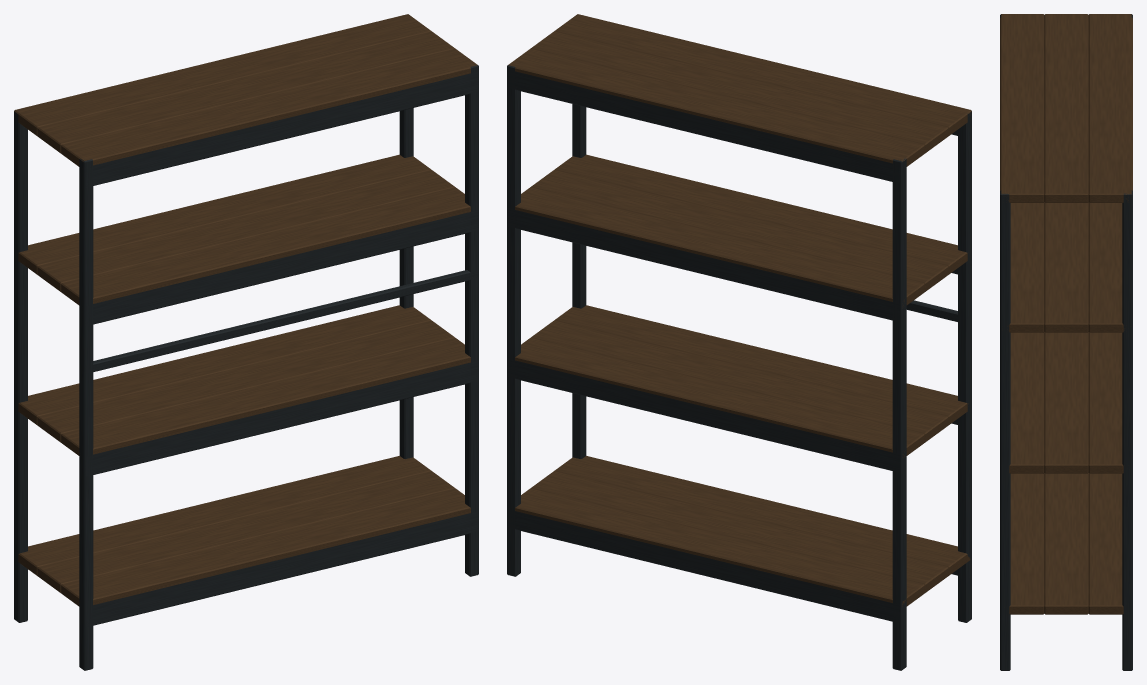
File: level_castle_retail_shelf.glb
3 views of the same model, side by side, from view 1: azimuth 30°, elevation 25°; view 2: azimuth 150°, elevation 25°; view 3: azimuth 270°, elevation 25° (orthographic). The views are drawn at different scales.
Parts seen in each view (by area): view 1: Oak shelf plank.009, Oak shelf plank, Oak shelf plank.006, Oak shelf plank.003, Oak shelf plank.010, Oak shelf plank.011, Oak shelf plank.004, Oak shelf plank.001, Oak shelf plank.007, Oak shelf plank.002, Oak shelf plank.008, Oak shelf plank.005 (+9 smaller); view 2: Oak shelf plank.011, Oak shelf plank.002, Oak shelf plank.005, Oak shelf plank.008, Oak shelf plank.010, Oak shelf plank.009, Oak shelf plank.004, Oak shelf plank.001, Oak shelf plank.007, Oak shelf plank, Oak shelf plank.003, Oak shelf plank.006 (+8 smaller); view 3: Oak shelf plank.010, Oak shelf plank.011, Oak shelf plank.009, Oak shelf plank.001, Oak shelf plank.004, Oak shelf plank.007, Iron upright.002, Iron upright.003, Oak shelf plank.003, Oak shelf plank.005, Oak shelf plank, Oak shelf plank.002 (+2 smaller).
Boxes of the visible parts, box(x1,y1,x2,y2) form: Oak shelf plank.009: box(61, 48, 477, 166); Oak shelf plank: box(61, 488, 470, 606); Oak shelf plank.006: box(61, 187, 470, 305); Oak shelf plank.003: box(61, 337, 470, 455); Oak shelf plank.010: box(37, 31, 454, 153); Oak shelf plank.011: box(14, 14, 431, 136); Oak shelf plank.004: box(37, 320, 454, 442); Oak shelf plank.001: box(37, 471, 454, 592); Oak shelf plank.007: box(37, 170, 454, 291); Oak shelf plank.002: box(18, 456, 431, 575); Oak shelf plank.008: box(14, 154, 431, 274); Oak shelf plank.005: box(18, 305, 431, 425); Oak shelf plank.011: box(508, 48, 924, 166); Oak shelf plank.002: box(515, 488, 924, 606); Oak shelf plank.005: box(515, 337, 924, 457); Oak shelf plank.008: box(515, 187, 924, 308); Oak shelf plank.010: box(531, 31, 948, 153); Oak shelf plank.009: box(554, 14, 971, 136); Oak shelf plank.004: box(531, 320, 948, 442); Oak shelf plank.001: box(531, 471, 948, 592); Oak shelf plank.007: box(531, 170, 948, 291); Oak shelf plank: box(554, 456, 970, 575); Oak shelf plank.003: box(554, 305, 968, 425); Oak shelf plank.006: box(554, 154, 967, 274); Oak shelf plank.010: box(1044, 14, 1088, 202); Oak shelf plank.011: box(1088, 14, 1132, 202); Oak shelf plank.009: box(1000, 14, 1044, 202); Oak shelf plank.001: box(1044, 473, 1088, 614); Oak shelf plank.004: box(1044, 332, 1088, 473); Oak shelf plank.007: box(1044, 202, 1088, 332); Iron upright.002: box(1000, 190, 1010, 670); Iron upright.003: box(1122, 190, 1132, 670); Oak shelf plank.003: box(1009, 332, 1044, 473); Oak shelf plank.005: box(1088, 332, 1123, 473); Oak shelf plank: box(1009, 473, 1044, 614); Oak shelf plank.002: box(1088, 473, 1123, 614).
Size of the model in its own units: 2.06 by 2.54 by 0.64.
2 materials, 2 textured.
